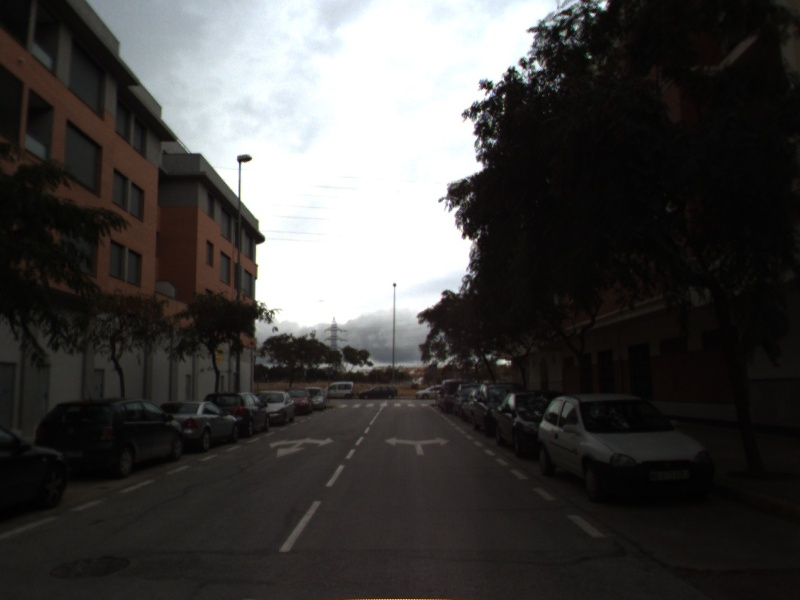LEFT_RIGHT: (383, 434, 452, 457)
